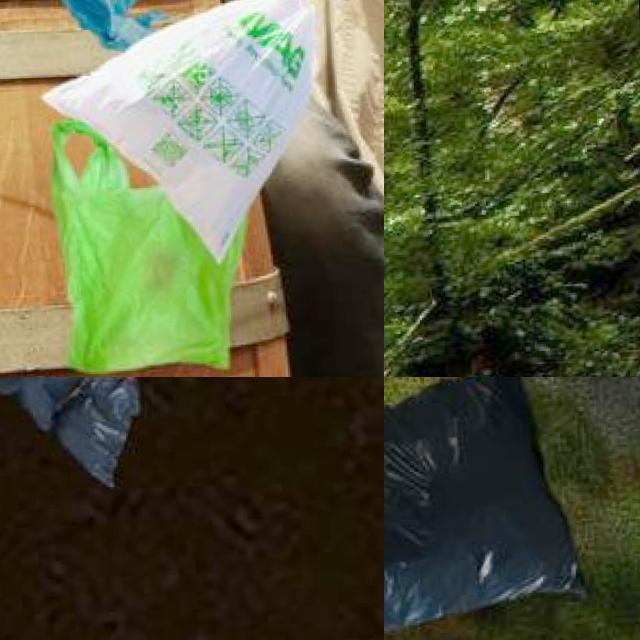waste: (53, 0, 323, 255), (384, 377, 592, 639), (59, 124, 244, 377), (52, 377, 145, 486), (4, 377, 86, 425)
